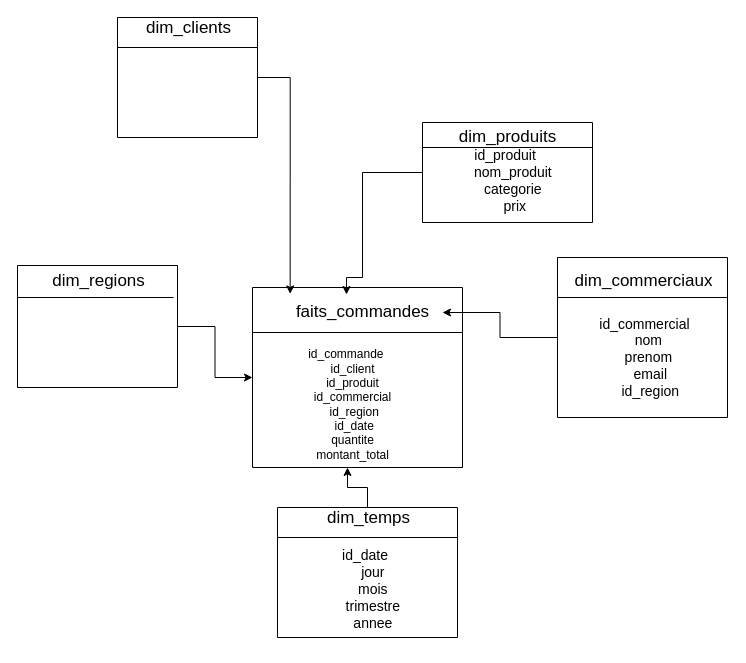
Some shapes in this 746 by 663 pixel diagram are drawn without their labels. Each missing label, with the box of its shape:
id_client nom prenom ville pays: (116, 16, 258, 138)
id_region nom_region pays: (16, 264, 178, 388)
